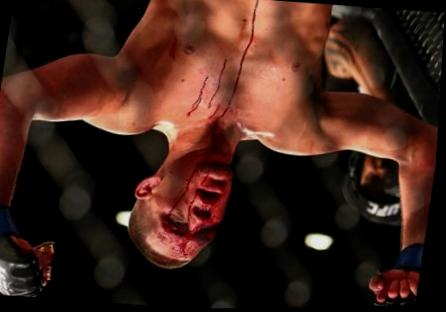Fire: (141, 0, 263, 260), (168, 38, 175, 59)
